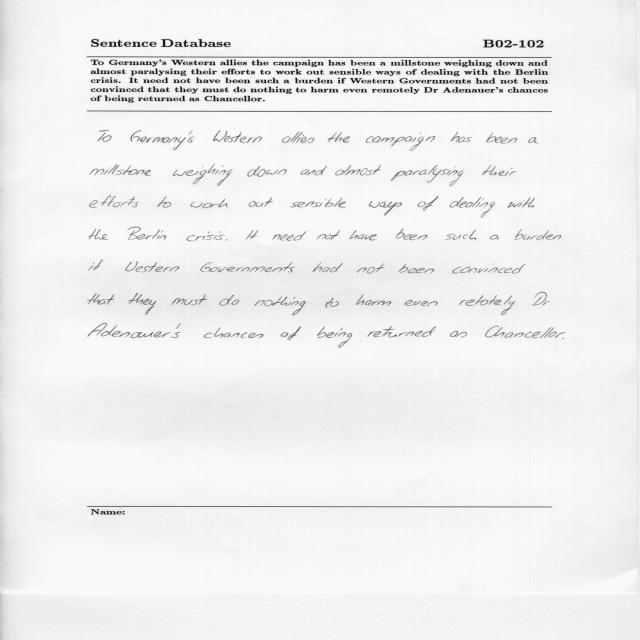word: (391, 165, 463, 186), (88, 324, 181, 339), (173, 164, 233, 186), (131, 130, 195, 150), (366, 133, 435, 151), (459, 295, 515, 315), (200, 262, 295, 273), (254, 297, 306, 316), (486, 326, 566, 338), (450, 197, 495, 218), (453, 263, 526, 274), (213, 130, 262, 146), (317, 326, 352, 348), (367, 327, 436, 338), (90, 164, 151, 176), (204, 328, 264, 339), (290, 197, 346, 208), (129, 293, 157, 315), (125, 261, 179, 272), (90, 196, 139, 208), (515, 229, 562, 240), (127, 227, 166, 240), (369, 201, 402, 216), (335, 165, 381, 175), (248, 166, 287, 177), (356, 294, 391, 306), (172, 295, 208, 306), (482, 165, 517, 176), (282, 132, 314, 144), (187, 232, 225, 242), (396, 229, 428, 240), (272, 231, 307, 241), (399, 264, 434, 274), (190, 199, 228, 208), (486, 133, 517, 144), (445, 230, 476, 241), (418, 196, 439, 211), (507, 197, 535, 208), (313, 263, 343, 273), (88, 294, 115, 305), (280, 327, 301, 341), (349, 231, 377, 241), (357, 264, 385, 274), (300, 166, 327, 176), (328, 132, 350, 143), (533, 293, 551, 306), (451, 132, 472, 143), (317, 230, 340, 240), (249, 198, 274, 207), (220, 295, 240, 306), (89, 229, 108, 240), (405, 300, 438, 306), (98, 130, 111, 142), (158, 197, 172, 208), (89, 260, 104, 270), (325, 298, 339, 308), (246, 230, 258, 240), (450, 331, 467, 338), (528, 137, 538, 143), (490, 235, 499, 240), (226, 239, 228, 240), (562, 338, 564, 339)
